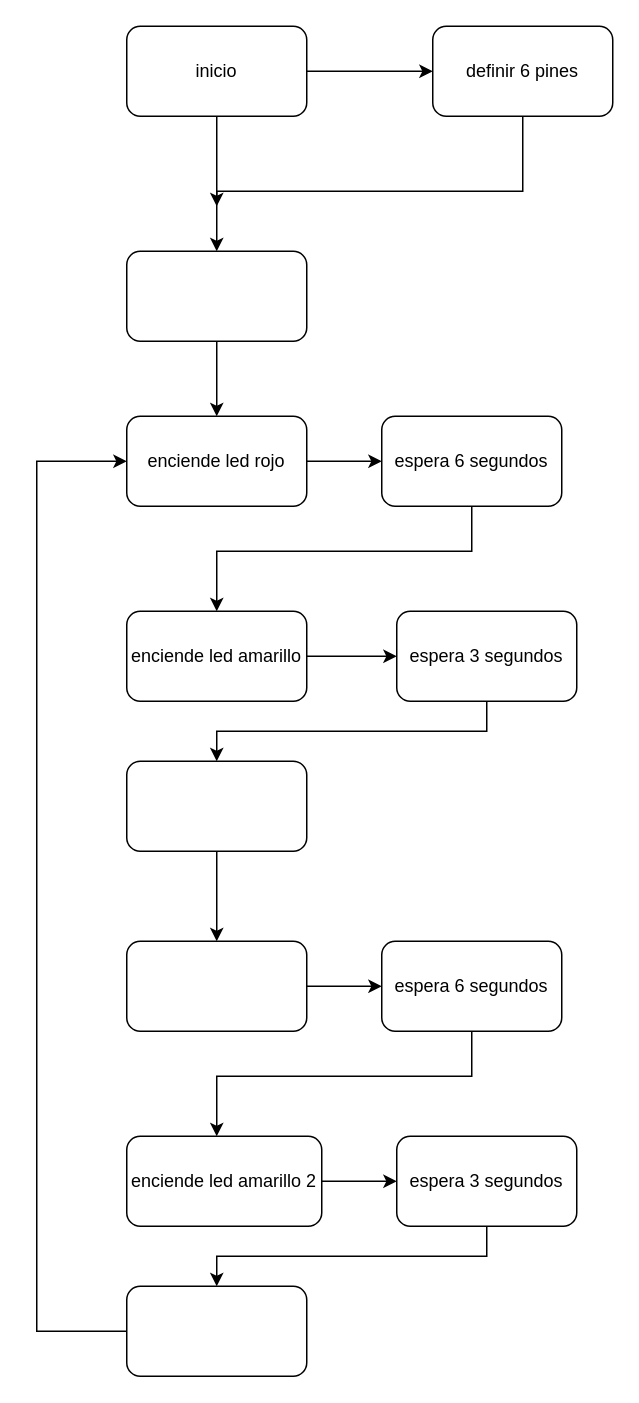
Image size: 639x1403. Some labels were removed from this diagram. The box of each missing label's shape, as (x1, y1, x2, y2) in pixels:
enciende led rojo 2: (125, 940, 307, 1031)
enciende led verde: (125, 760, 307, 851)
enciende led verde 2: (125, 1285, 307, 1376)
loop: (125, 250, 307, 341)
